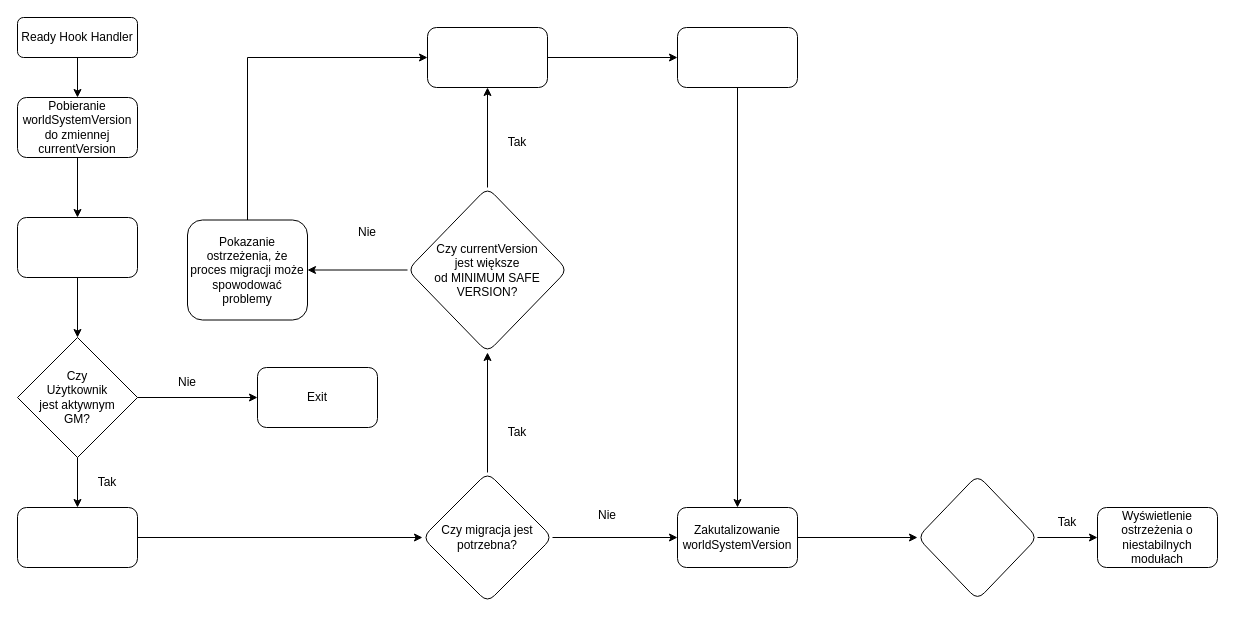
This 1235x620 diagram has some shape labels left out. Here are the shapes that lost their labels. From the top down, the centre of each, then its label:
At (487,57): "Przeprowaszenie migracji".
At (737,57): "Wyświetlenie rezultatu migracji".
At (77,247): "Zapisanie zainicjowanej wersji świata".
At (77,537): "Uruchomienie MigrationRunner".
At (977,537): "Czy są niestabilne moduły w użyciu?".
